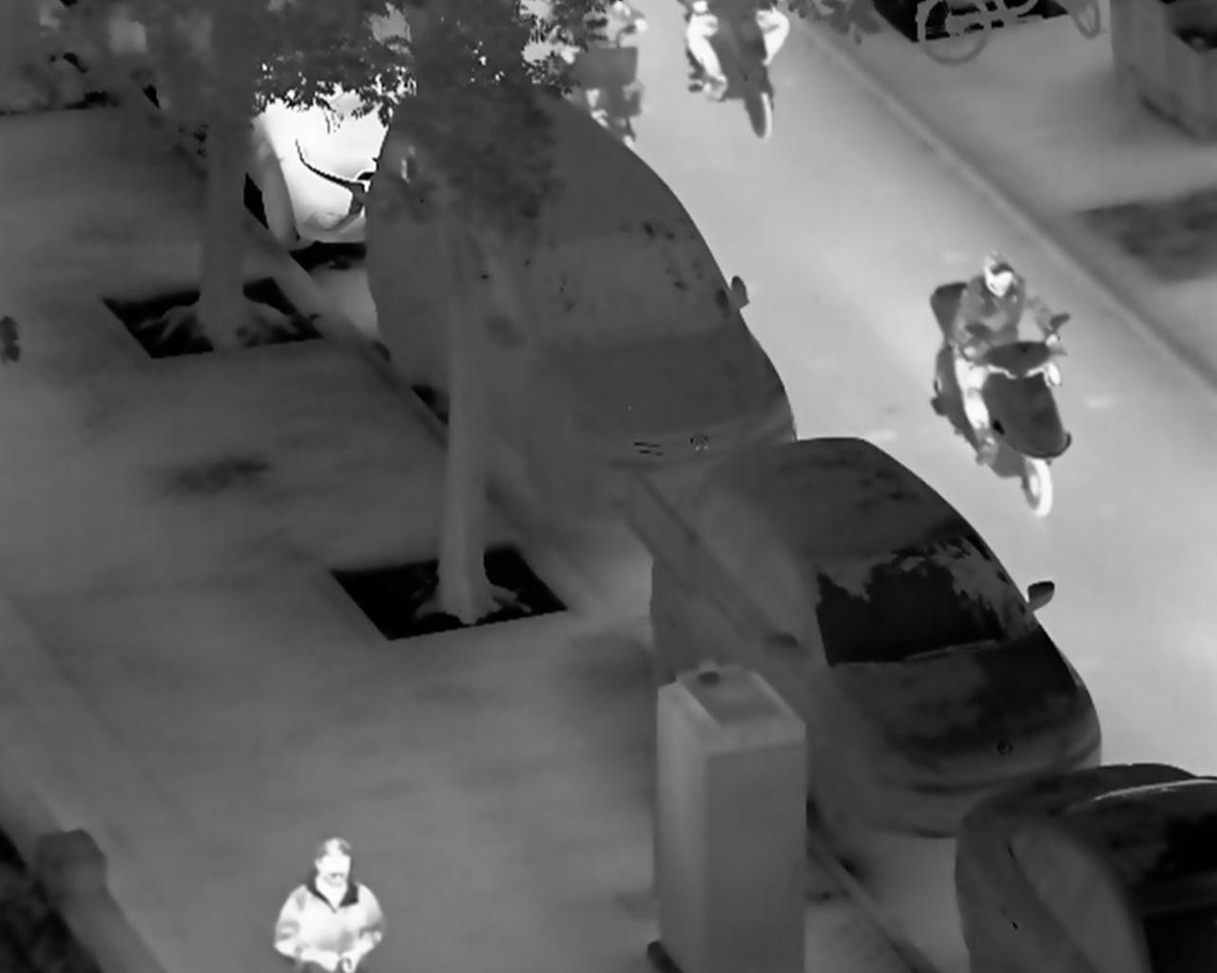person: (947, 248, 1065, 470), (271, 833, 391, 973)
